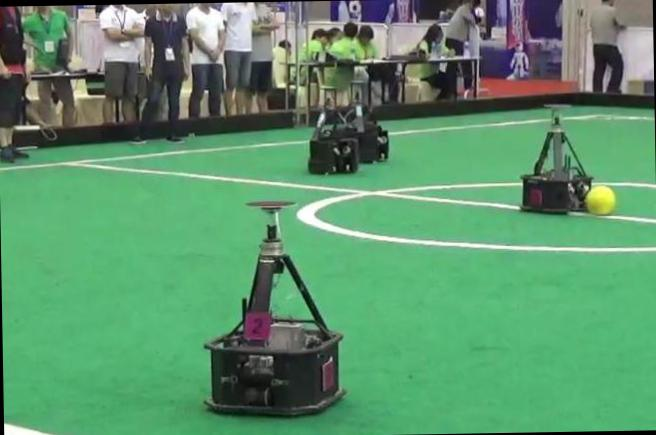ball: (585, 184, 615, 213)
person: (132, 3, 187, 142), (0, 6, 27, 161)
robot: (205, 201, 344, 414), (521, 104, 591, 212), (308, 85, 359, 173), (348, 79, 388, 161)
